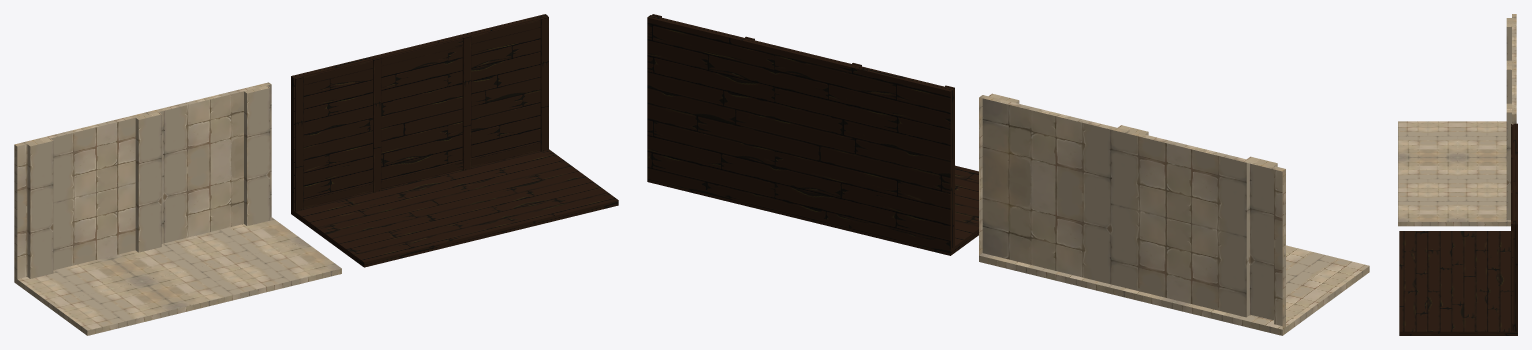
File: 1_environment.fbx
3 renders of one model, left to right at view 1: azimuth 30°, elevation 25°; view 2: azimuth 150°, elevation 25°; view 3: azimuth 270°, elevation 25°, orthographic. The views are drawn at different scales.
Parts seen in each view (by area): view 1: Floor.003, Floor.007, Floor.002, Floor.001, Floor.008, Floor.005, Floor.006, Floor.004; view 2: Floor.003, Floor.007, Floor.001, Floor.008, Floor.002; view 3: Floor.002, Floor.001, Floor.008, Floor.003, Floor.007, Floor.005, Floor.004, Floor.006.
Part boxes in pixels (x1,y1,x2,y2): Floor.003: (291,14,548,210); Floor.007: (14,82,271,279); Floor.002: (291,149,618,267); Floor.001: (14,217,341,335); Floor.008: (27,85,270,278); Floor.005: (303,19,540,207); Floor.006: (373,35,471,192); Floor.004: (295,17,548,211); Floor.003: (647,15,953,249); Floor.007: (979,95,1285,328); Floor.001: (979,245,1369,335); Floor.008: (988,93,1277,320); Floor.002: (647,165,978,255); Floor.002: (1399,231,1517,335); Floor.001: (1398,121,1510,226); Floor.008: (1506,18,1511,219); Floor.003: (1513,123,1517,331); Floor.007: (1512,14,1516,124); Floor.005: (1512,125,1513,330); Floor.004: (1511,124,1512,331); Floor.006: (1511,154,1512,220).
Size of the model in its own units: 20.99 by 5.2 by 5.06.
1 material, 1 textured.
